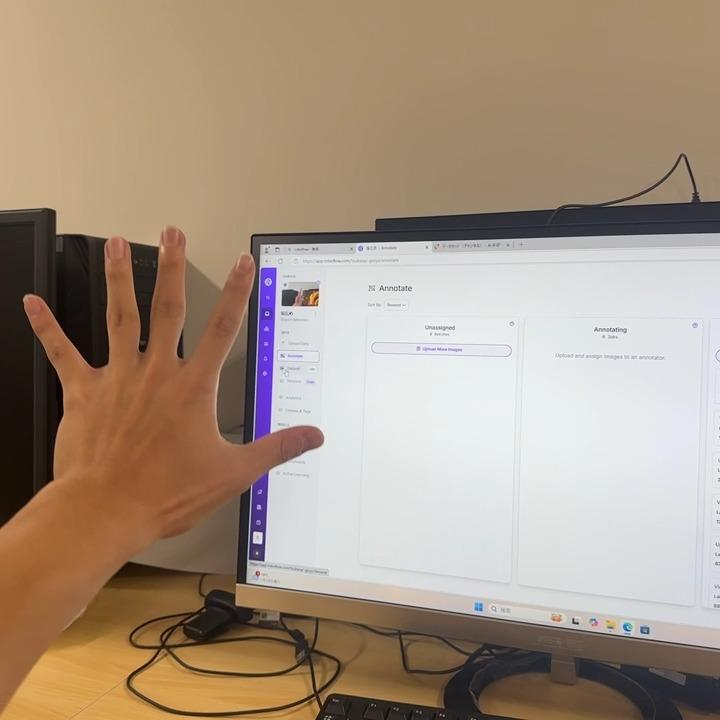without_gloves: (10, 226, 333, 552)
